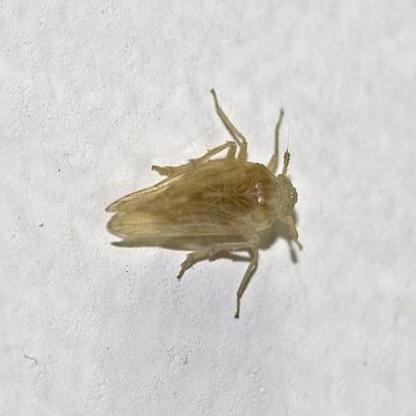brown-planthopper: (102, 140, 307, 272)
